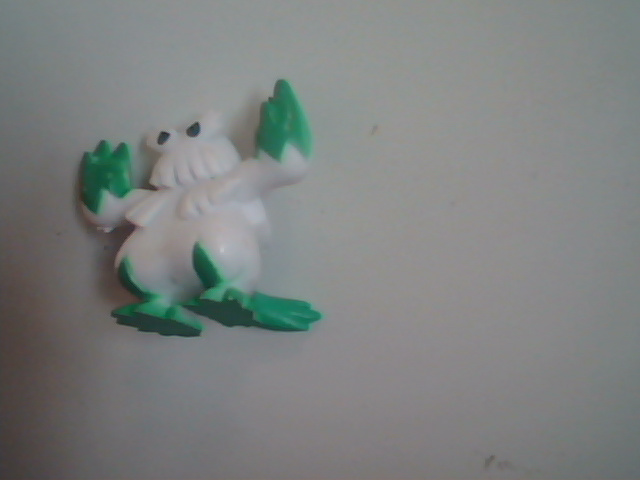abomasnow: (84, 75, 453, 413)
